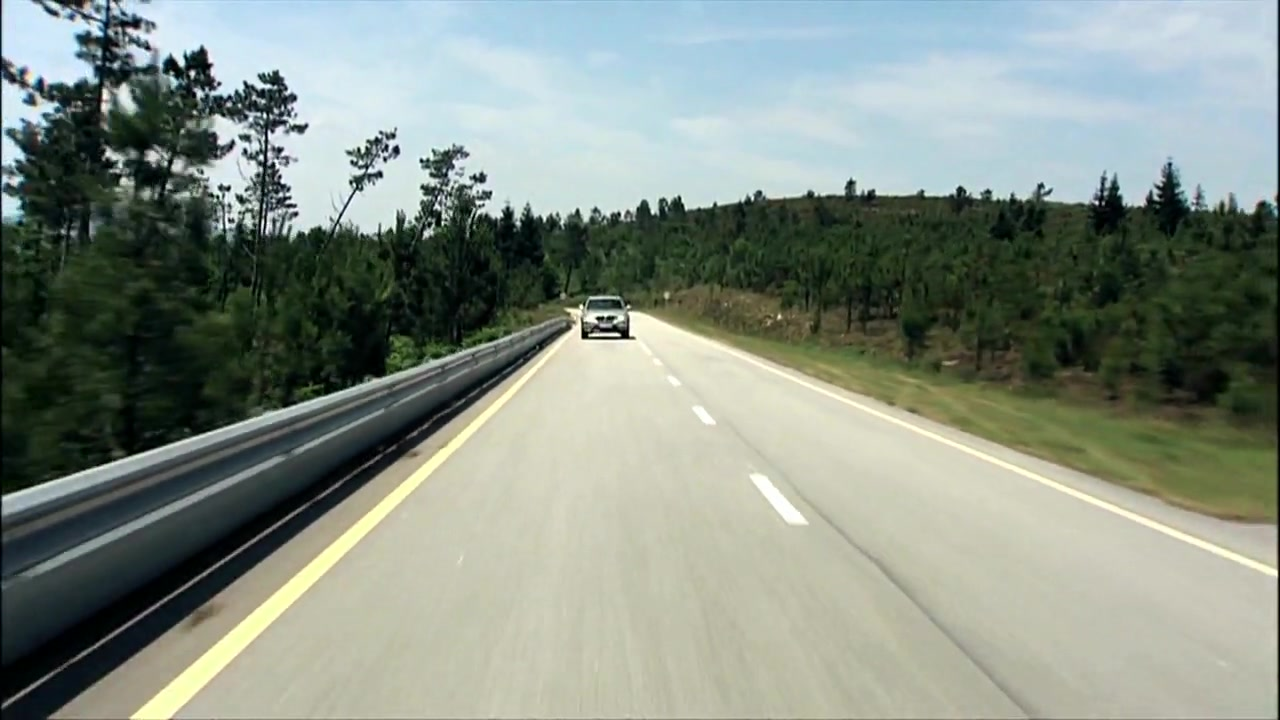car: (580, 294, 634, 338)
